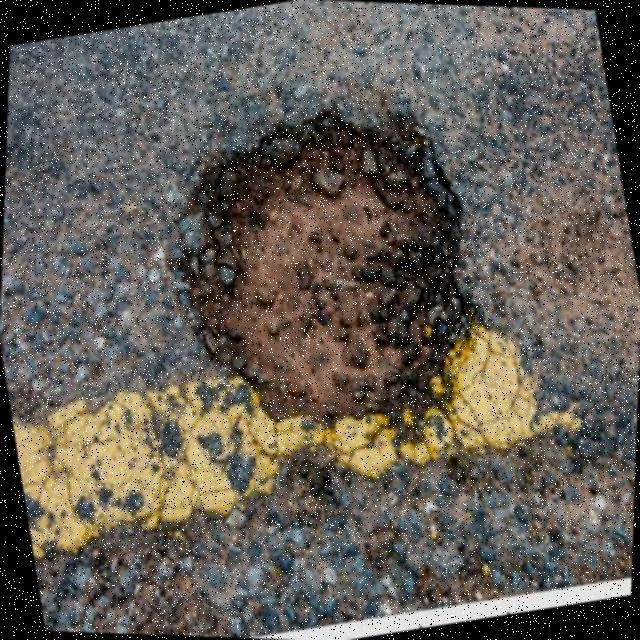Pothole: (178, 105, 471, 427)
